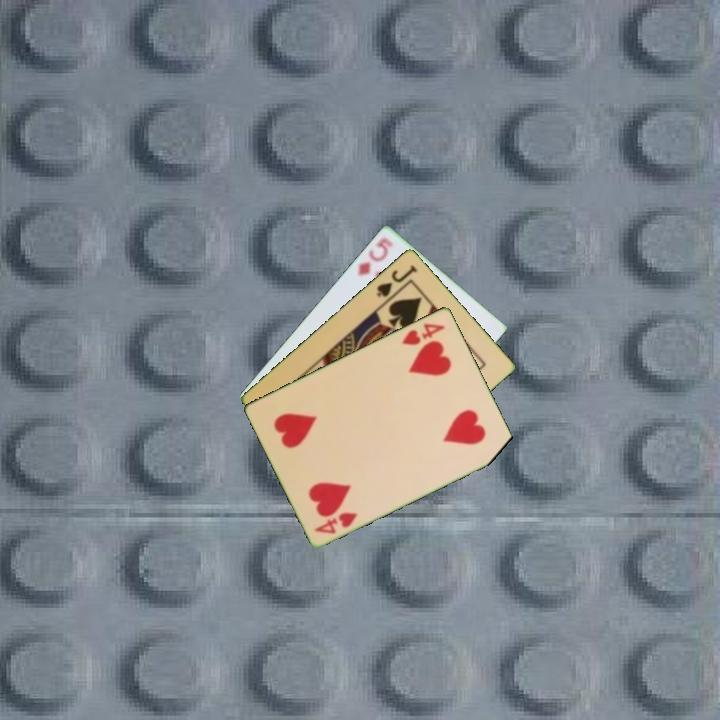4h: (398, 319, 448, 348), (311, 508, 361, 536)
5d: (354, 233, 396, 278)
Js: (372, 261, 420, 300)
